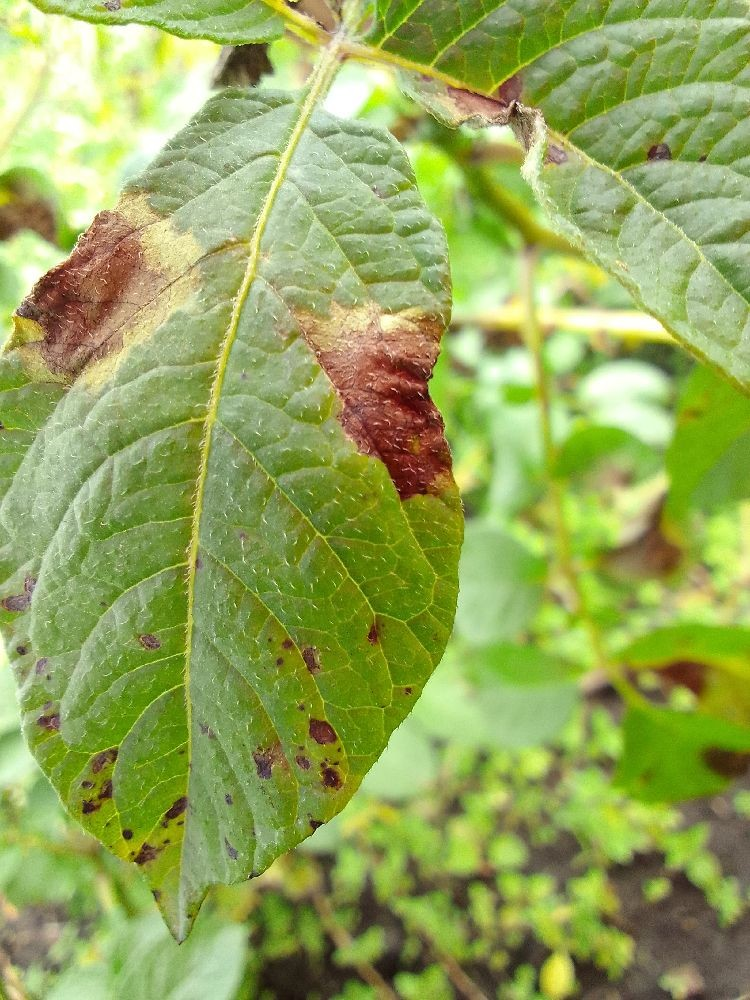late_blight: (218, 731, 749, 999), (244, 269, 505, 576), (0, 189, 195, 413), (404, 39, 552, 181)
